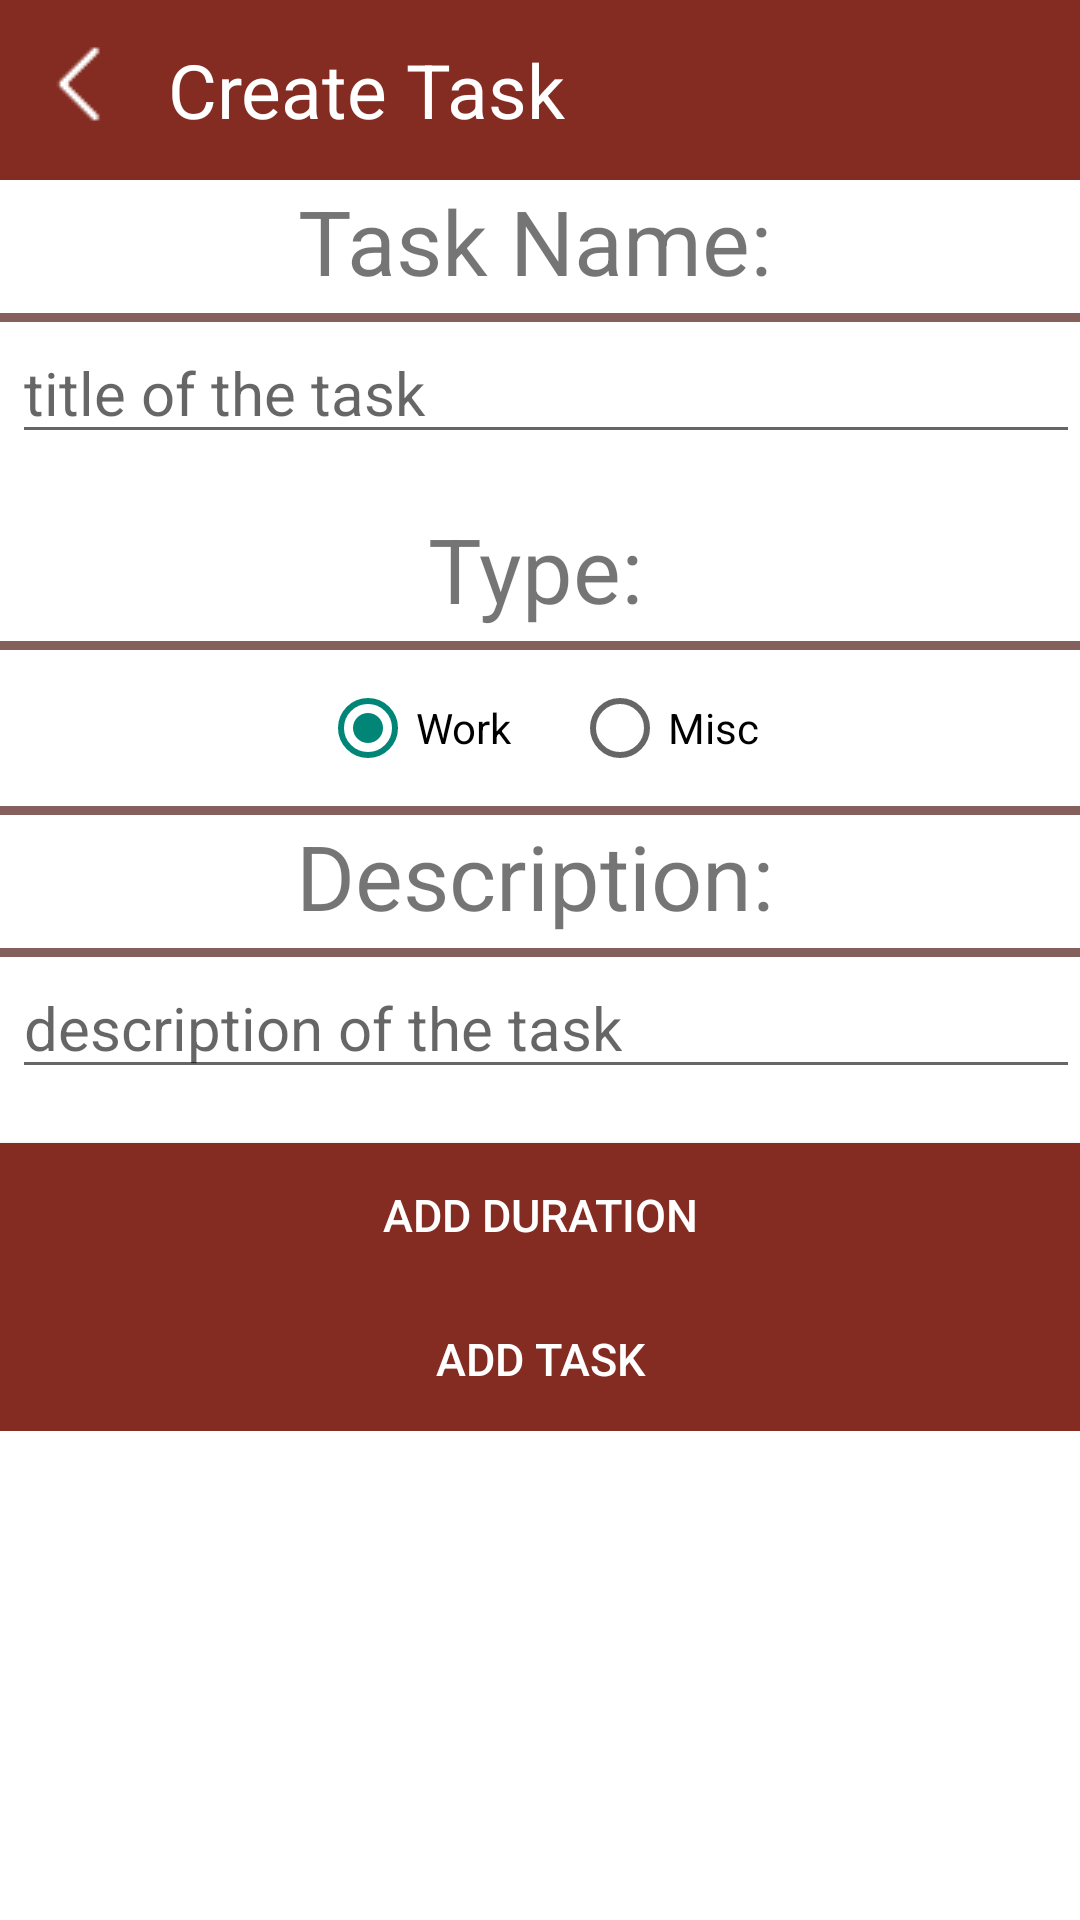

Icon click points for this 1080px x 1920px phone screenshot, format (x,y):
backbutton: (79,84)
